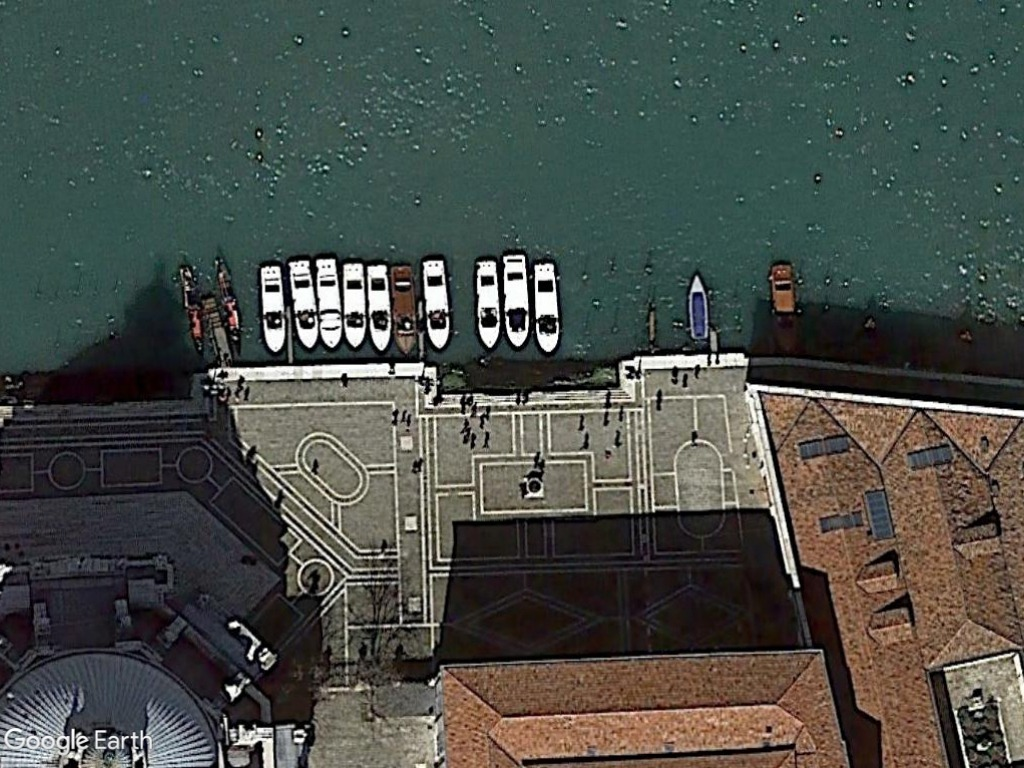boat: (500, 248, 535, 354), (527, 256, 564, 356), (285, 253, 320, 355), (473, 253, 507, 356), (417, 254, 452, 354), (312, 253, 345, 353), (387, 262, 419, 360), (257, 260, 287, 359), (364, 261, 394, 356), (339, 257, 368, 355), (685, 268, 714, 346)
